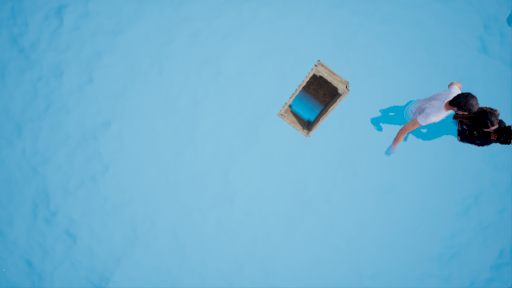person: (375, 78, 510, 162)
